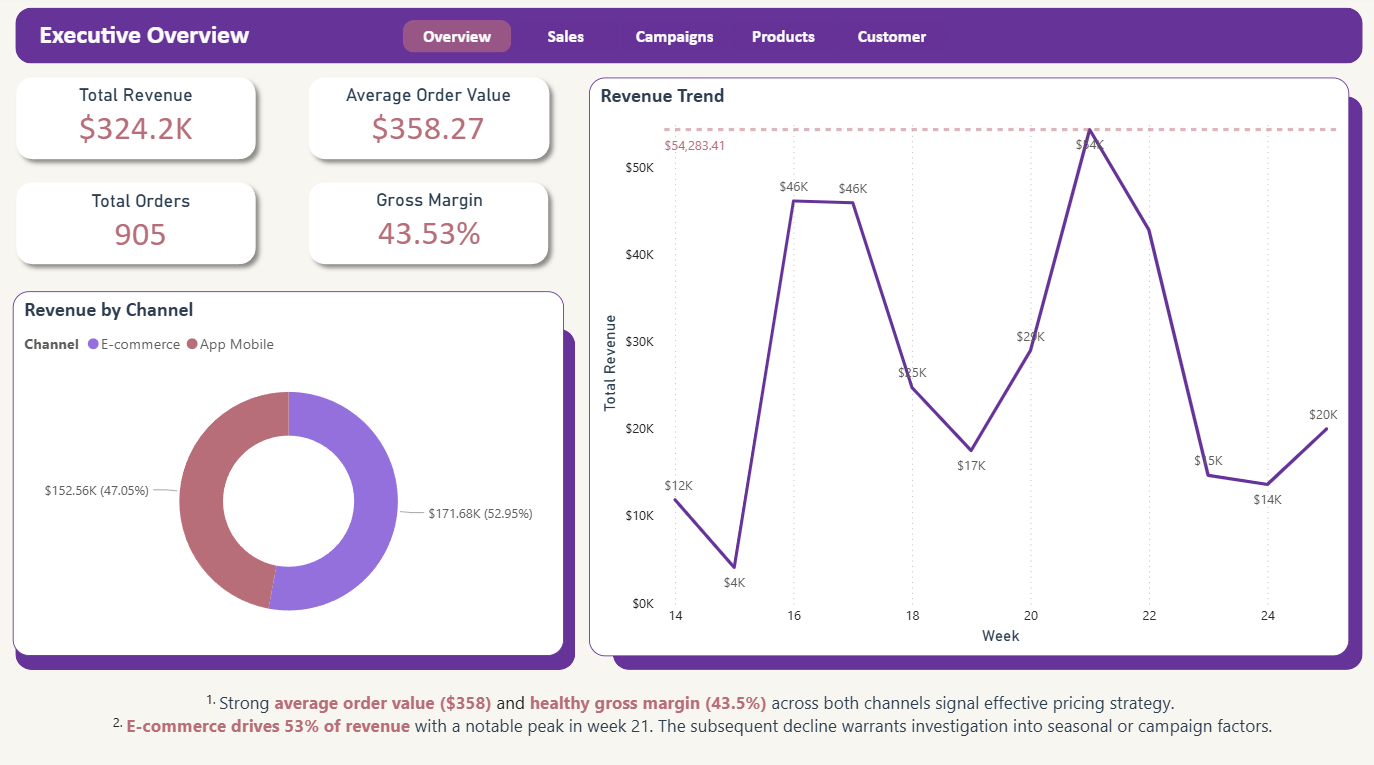

Layout of this report page (visuals, bound fields, positions):
{"tool":"powerbi","page":{"name":"Overview","canvas":[1280,720],"ordinal":0},"visuals":[{"type":"shape","box":[15.1,11.6,1253.5,52.3],"z":0},{"type":"actionButton","box":[375.6,23.3,101.2,30.2],"z":1000},{"type":"actionButton","box":[476.7,23.3,101.2,30.2],"z":2000},{"type":"actionButton","box":[577.9,23.3,101.2,30.2],"z":3000},{"type":"actionButton","box":[679.1,23.3,101.2,30.2],"z":4000},{"type":"actionButton","box":[780.2,23.3,101.2,30.2],"z":5000},{"type":"textbox","box":[32.6,16.3,265.1,44.2],"z":6000},{"type":"shape","box":[7,67.4,240.7,94.2],"z":7000},{"type":"shape","box":[279.1,67.4,241.9,94.2],"z":8000},{"type":"shape","box":[7,164.9,240.7,94.2],"z":9000},{"type":"shape","box":[279.1,164.9,240.7,94.2],"z":10000},{"type":"card","title":"Total Revenue","fields":{"Values":["_Measures.Total Revenue"]},"box":[7,82.6,240.7,65.1],"z":11000},{"type":"card","title":"Total Orders","fields":{"Values":["_Measures.Total Orders"]},"box":[11.6,181.2,240.7,64],"z":12000},{"type":"card","title":"Average Order Value","fields":{"Values":["_Measures.Average Order Value"]},"box":[279.1,82.6,240.7,65.1],"z":13000},{"type":"card","title":"Gross Margin","fields":{"Values":["_Measures.Gross Margin %"]},"box":[280.2,180,240.7,64],"z":14000},{"type":"textbox","box":[32.6,641.9,1219.8,58.1],"z":15000},{"type":"shape","box":[570.9,94.2,697.7,533.7],"z":16000},{"type":"lineChart","title":"Revenue Trend","fields":{"Y":["_Measures.Total Revenue"],"Category":["Calendar.Date Hierarchy.Year","Calendar.Date Hierarchy.Month","Calendar.Date Hierarchy.Week","Calendar.Date Hierarchy.Date"]},"box":[548.8,76.7,707,538.4],"z":17000},{"type":"shape","box":[15.1,310.5,520.9,317.4],"z":18000},{"type":"donutChart","title":"Revenue by Channel","fields":{"Y":["_Measures.Total Revenue"],"Category":["salesitems.channel"]},"box":[12.8,275.6,512.8,339.5],"z":19000}]}

Visuals, with their boxes in screenshot pixels (x1, y1, x2, y2), scaled from the page's 1280x720 canvas onto the 1374x765 screenshot:
shape: {"left": 16, "top": 12, "right": 1362, "bottom": 68}
actionButton: {"left": 403, "top": 25, "right": 512, "bottom": 57}
actionButton: {"left": 512, "top": 25, "right": 620, "bottom": 57}
actionButton: {"left": 620, "top": 25, "right": 729, "bottom": 57}
actionButton: {"left": 729, "top": 25, "right": 838, "bottom": 57}
actionButton: {"left": 837, "top": 25, "right": 946, "bottom": 57}
textbox: {"left": 35, "top": 17, "right": 320, "bottom": 64}
shape: {"left": 8, "top": 72, "right": 266, "bottom": 172}
shape: {"left": 300, "top": 72, "right": 559, "bottom": 172}
shape: {"left": 8, "top": 175, "right": 266, "bottom": 275}
shape: {"left": 300, "top": 175, "right": 558, "bottom": 275}
"Total Revenue" card: {"left": 8, "top": 88, "right": 266, "bottom": 157}
"Total Orders" card: {"left": 12, "top": 193, "right": 271, "bottom": 261}
"Average Order Value" card: {"left": 300, "top": 88, "right": 558, "bottom": 157}
"Gross Margin" card: {"left": 301, "top": 191, "right": 559, "bottom": 259}
textbox: {"left": 35, "top": 682, "right": 1344, "bottom": 744}
shape: {"left": 613, "top": 100, "right": 1362, "bottom": 667}
"Revenue Trend" lineChart: {"left": 589, "top": 81, "right": 1348, "bottom": 654}
shape: {"left": 16, "top": 330, "right": 575, "bottom": 667}
"Revenue by Channel" donutChart: {"left": 14, "top": 293, "right": 564, "bottom": 654}
